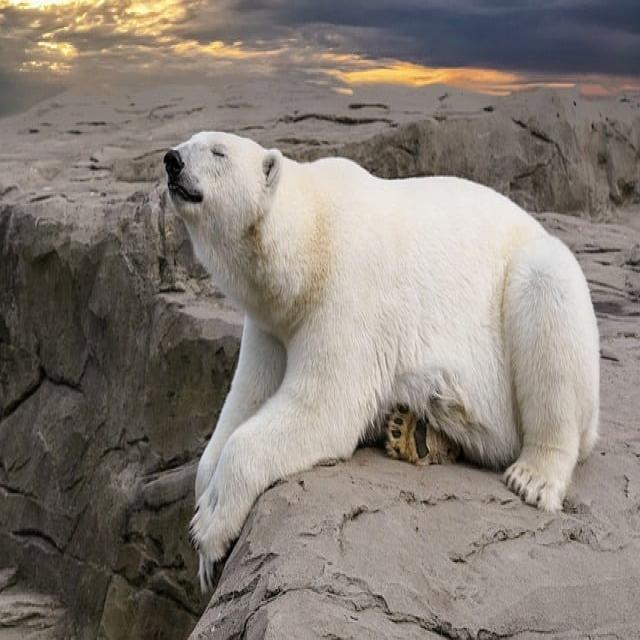Carnivorous: (161, 132, 602, 591)
